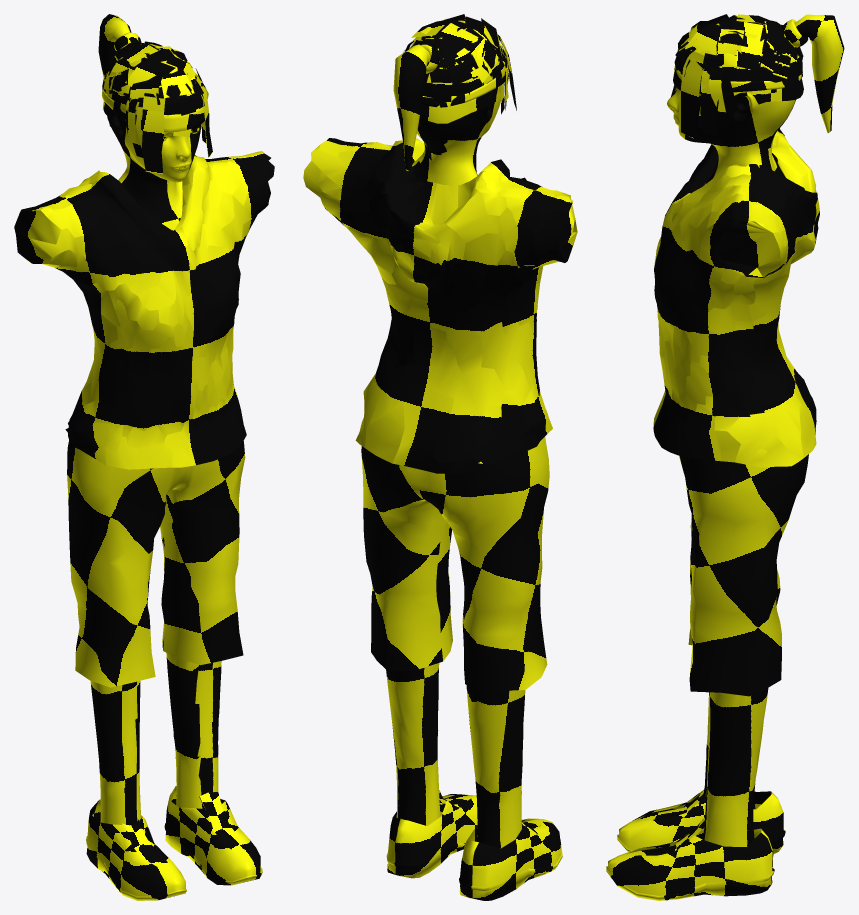
Rendered from diana_hitbox.obj.
3 views of the same model, side by side, from view 1: azimuth 30°, elevation 25°; view 2: azimuth 150°, elevation 25°; view 3: azimuth 270°, elevation 25° (orthographic). The views are drawn at different scales.
Parts seen in each view (by area): view 1: group1 torsosweater polySurface1, group1 polySurface7 polySurface1, group1 polySurface10 polySurface1, HairParts group1 polySurface1, group1 head1 polySurface1; view 2: group1 torsosweater polySurface1, group1 polySurface7 polySurface1, HairParts group1 polySurface1, group1 polySurface10 polySurface1, group1 head1 polySurface1; view 3: group1 torsosweater polySurface1, group1 polySurface7 polySurface1, HairParts group1 polySurface1, group1 polySurface10 polySurface1, group1 head1 polySurface1.
Boxes of the visible parts, box(x1,y1,x2,y2) form: group1 torsosweater polySurface1: box(14, 151, 274, 469); group1 polySurface7 polySurface1: box(67, 440, 245, 825); group1 polySurface10 polySurface1: box(86, 786, 262, 900); HairParts group1 polySurface1: box(98, 14, 212, 174); group1 head1 polySurface1: box(107, 107, 201, 230); group1 torsosweater polySurface1: box(303, 138, 577, 473); group1 polySurface7 polySurface1: box(361, 414, 549, 848); HairParts group1 polySurface1: box(393, 14, 516, 171); group1 polySurface10 polySurface1: box(386, 790, 562, 900); group1 head1 polySurface1: box(412, 85, 503, 185); group1 torsosweater polySurface1: box(653, 128, 819, 467); group1 polySurface7 polySurface1: box(679, 449, 808, 846); HairParts group1 polySurface1: box(671, 14, 844, 138); group1 polySurface10 polySurface1: box(606, 789, 785, 900); group1 head1 polySurface1: box(667, 88, 796, 184).
Size of the model in its own units: 10.6 by 33.73 by 8.51.
1 material, 1 textured.
